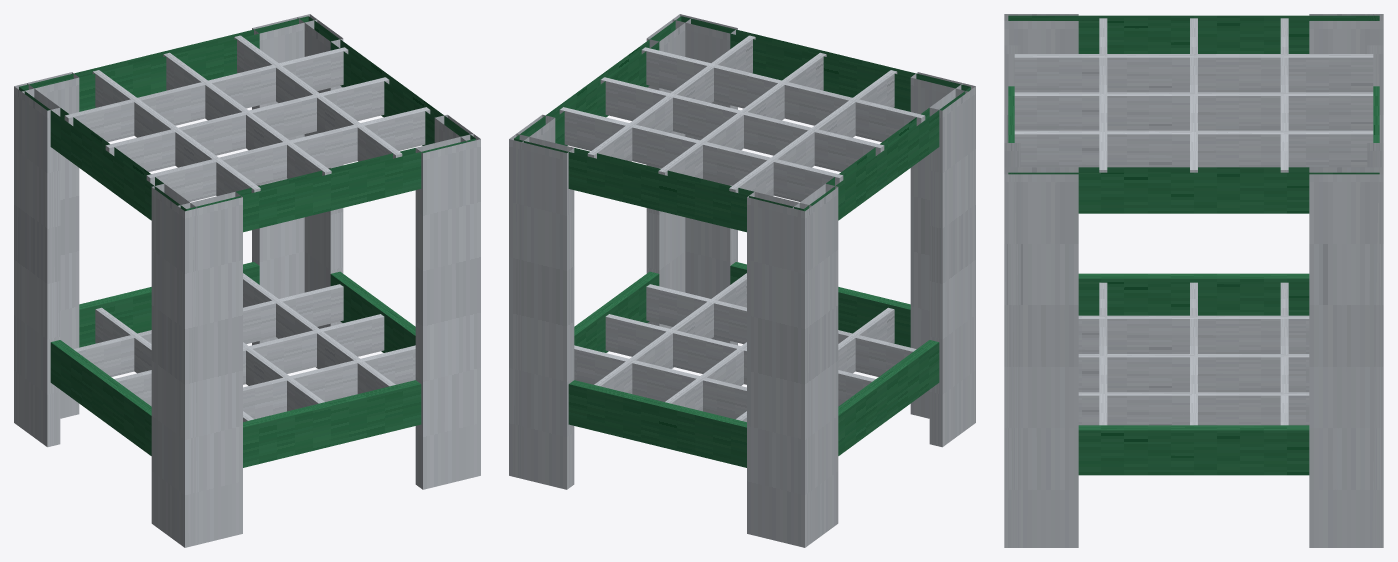
Rendered from tvs_frame_middle.obj.
3 views of the same model, side by side, from view 1: azimuth 30°, elevation 25°; view 2: azimuth 150°, elevation 25°; view 3: azimuth 270°, elevation 25° (orthographic). The views are drawn at different scales.
Bounding box in the file's own units: 0.92 × 1 × 0.92.
